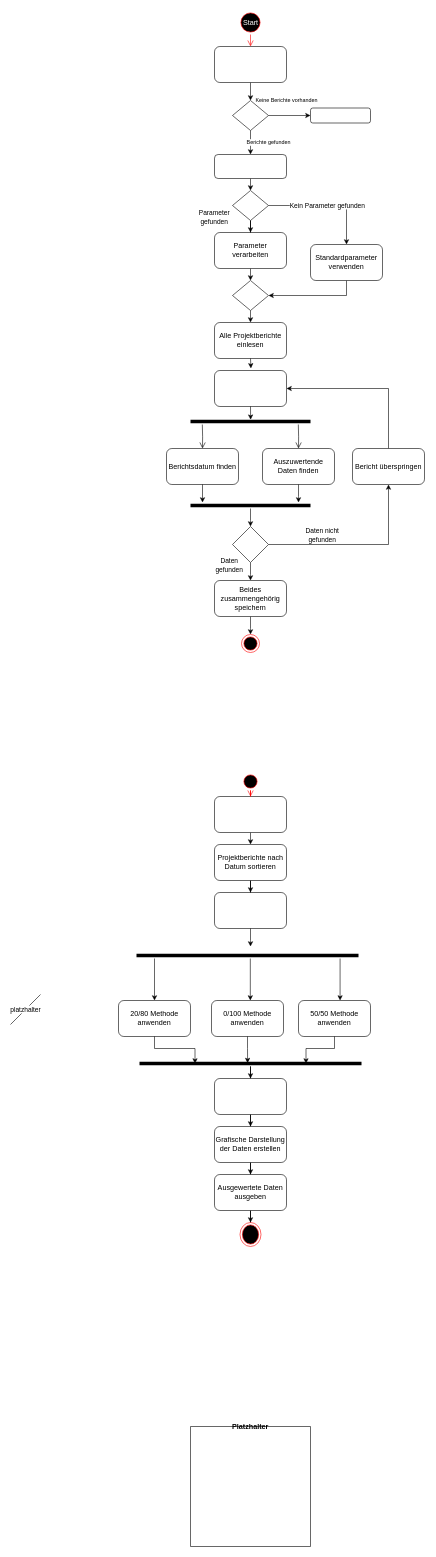
The diagram is 436 pixels wide and 1557 high, and some of its shapes have lost their labels. Each missing label, with the box of its shape:
Auf übergebene Parameter überprüfen: (214, 154, 286, 178)
Daten in Berichten finden: (214, 370, 286, 406)
Daten weiter formatieren: (214, 796, 286, 832)
Datenauswertung beginnen: (214, 892, 286, 928)
Ende: (239, 1222, 261, 1246)
Fehlermeldung: (310, 107, 370, 123)
Für Datenausgabe formatieren: (214, 1078, 286, 1114)
Überprüfen, ob Projektberichte vorhanden: (214, 46, 286, 82)
